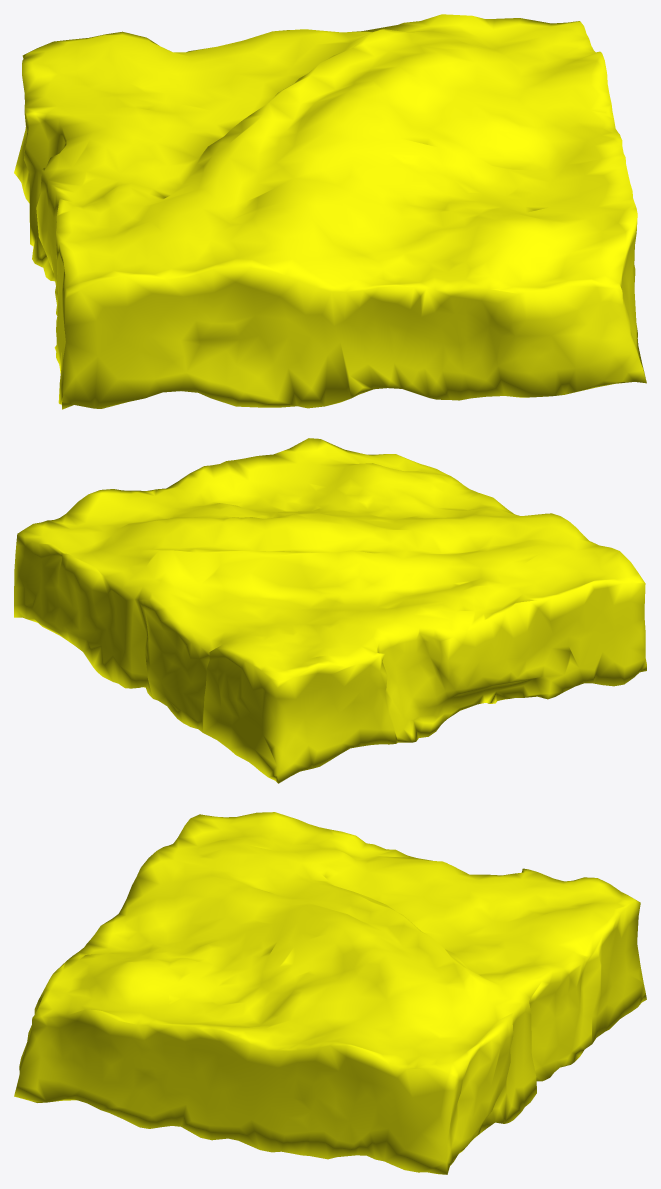
Rendered from stone11.glb.
3 views of the same model, one above another, from view 1: azimuth 30°, elevation 25°; view 2: azimuth 150°, elevation 25°; view 3: azimuth 270°, elevation 25° (orthographic). The views are drawn at different scales.
Visible parts, largest first — view 1: stone11.LP; view 2: stone11.LP; view 3: stone11.LP.
Boxes of the visible parts, x1,y1,x2,y2 form: stone11.LP: [14, 14, 646, 409]; stone11.LP: [14, 438, 646, 783]; stone11.LP: [14, 812, 646, 1174].
Bounding box in the file's own units: 2.64 × 0.6582 × 2.59.
1 material, 1 textured.
